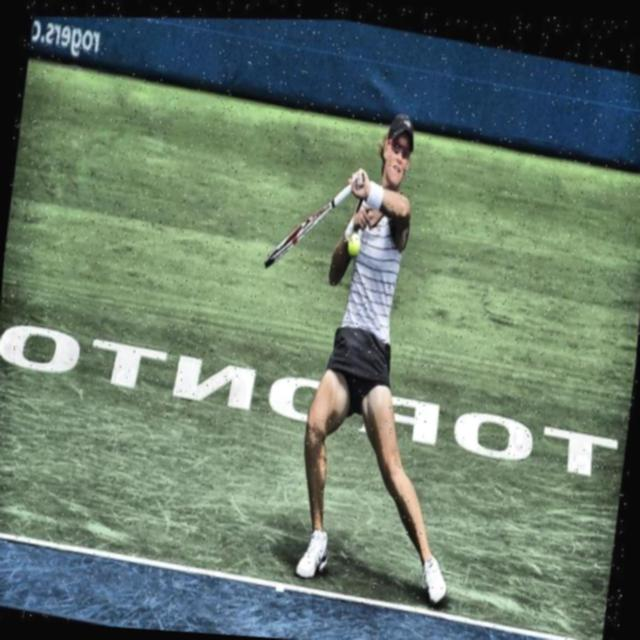Tennis Ball: (343, 225, 362, 258)
